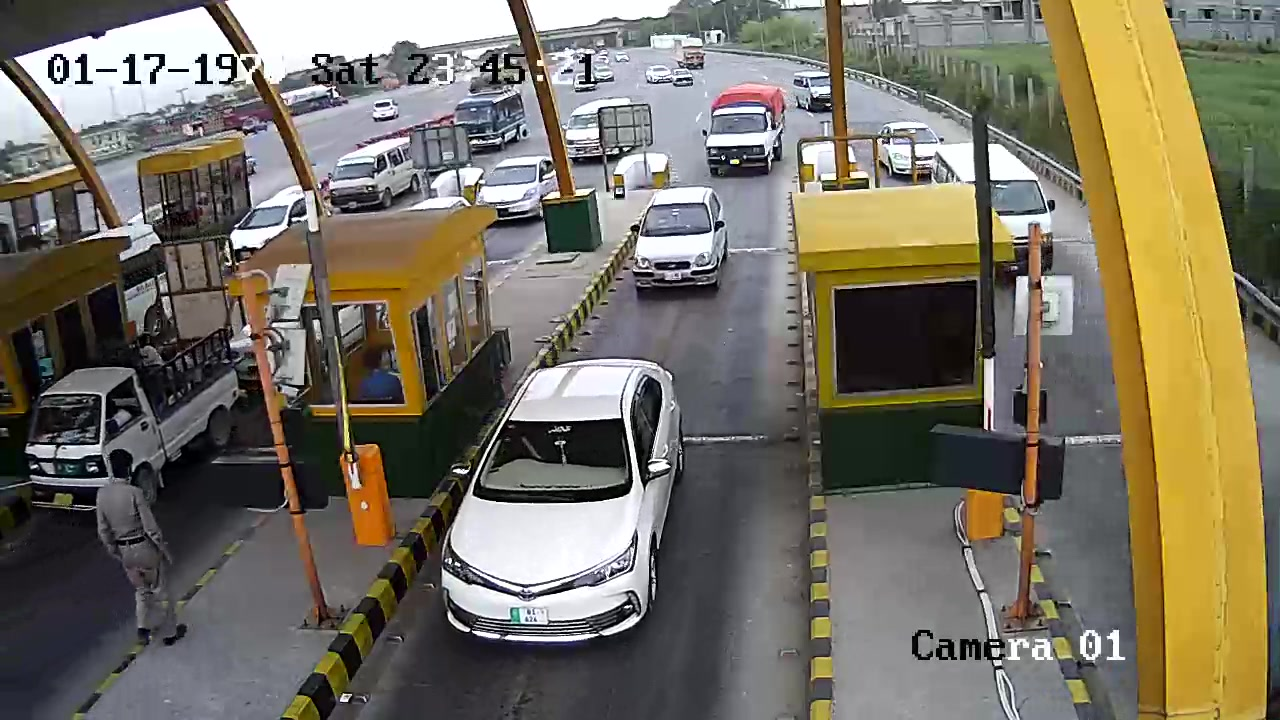F1: (436, 351, 707, 651), (628, 181, 730, 297)
